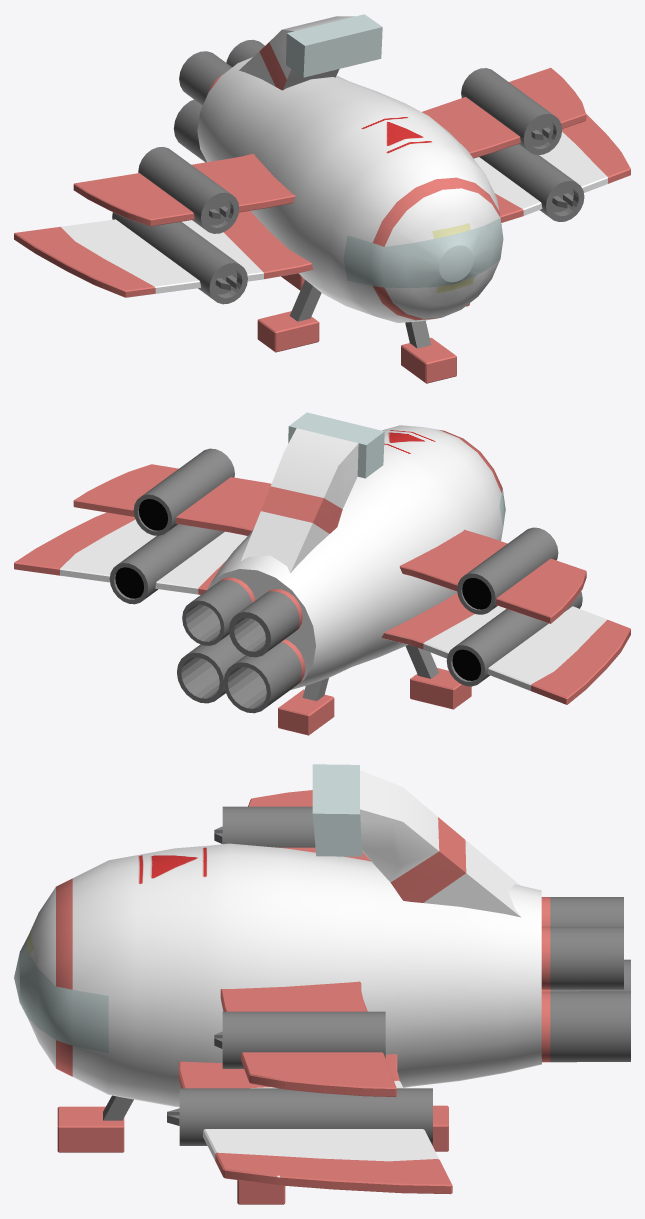
File: SpaceShip_02.fbx
3 views of the same model, one above another, from view 1: azimuth 30°, elevation 25°; view 2: azimuth 150°, elevation 25°; view 3: azimuth 270°, elevation 25° (orthographic). The views are drawn at different scales.
Parts seen in each view (by area): view 1: Main_body, Wings_onder, wings_boven, Cockpit, Wing_engine__complete_right_upper1, Wing_engine__complete_right_upper, Wing_engine__complete_left_upper, Wing_engine__complete_left_upper1, Voet_links1, Voet_voor, Engine_Rechts_boven, Engine_Rechts_onder (+3 smaller); view 2: Main_body, Wings_onder, wings_boven, Cockpit, Wing_engine__complete_left_upper, Wing_engine__complete_right_upper, Wing_engine__complete_left_upper1, Engine_Rechts_onder, Wing_engine__complete_right_upper1, Engine_Rechts_boven, Engine_Links_boven, Engine_Links_onder (+3 smaller); view 3: Main_body, Cockpit, Wings_onder, wings_boven, Wing_engine__complete_left_upper1, Wing_engine__complete_left_upper, Engine_Links_onder, Engine_Links_boven, Wing_engine__complete_right_upper, Voet_voor, Engine_Rechts_boven, Voet_links (+1 smaller).
Boxes of the visible parts, left/top/right/bottom form: Main_body: left=197, top=57, right=503, bottom=322; Wings_onder: left=14, top=114, right=630, bottom=297; wings_boven: left=73, top=67, right=586, bottom=226; Cockpit: left=239, top=14, right=382, bottom=90; Wing_engine__complete_right_upper1: left=112, top=212, right=247, bottom=304; Wing_engine__complete_right_upper: left=138, top=147, right=239, bottom=233; Wing_engine__complete_left_upper: left=461, top=68, right=562, bottom=154; Wing_engine__complete_left_upper1: left=479, top=144, right=584, bottom=221; Voet_links1: left=257, top=311, right=319, bottom=352; Voet_voor: left=401, top=337, right=456, bottom=383; Engine_Rechts_boven: left=179, top=51, right=231, bottom=105; Engine_Rechts_onder: left=173, top=99, right=206, bottom=162; Main_body: left=207, top=425, right=505, bottom=689; Wings_onder: left=14, top=512, right=630, bottom=704; wings_boven: left=73, top=464, right=586, bottom=623; Cockpit: left=241, top=412, right=384, bottom=573; Wing_engine__complete_left_upper: left=133, top=448, right=234, bottom=535; Wing_engine__complete_right_upper: left=457, top=527, right=558, bottom=614; Wing_engine__complete_left_upper1: left=109, top=524, right=224, bottom=604; Engine_Rechts_onder: left=224, top=639, right=305, bottom=713; Wing_engine__complete_right_upper1: left=446, top=591, right=582, bottom=686; Engine_Rechts_boven: left=229, top=589, right=302, bottom=657; Engine_Links_boven: left=182, top=577, right=255, bottom=645; Engine_Links_onder: left=177, top=634, right=245, bottom=703; Main_body: left=14, top=843, right=541, bottom=1107; Cockpit: left=312, top=764, right=521, bottom=917; Wings_onder: left=178, top=1054, right=452, bottom=1194; wings_boven: left=220, top=790, right=396, bottom=1096; Wing_engine__complete_left_upper1: left=167, top=1088, right=432, bottom=1145; Wing_engine__complete_left_upper: left=214, top=1011, right=385, bottom=1068; Engine_Links_onder: left=541, top=991, right=630, bottom=1062; Engine_Links_boven: left=541, top=926, right=623, bottom=989; Wing_engine__complete_right_upper: left=214, top=806, right=315, bottom=847; Voet_voor: left=57, top=1106, right=124, bottom=1152; Engine_Rechts_boven: left=541, top=897, right=623, bottom=926; Voet_links: left=237, top=1180, right=285, bottom=1204.
Size of the model in its own units: 7.45 by 3.5 by 5.52.
7 materials, 1 textured.
